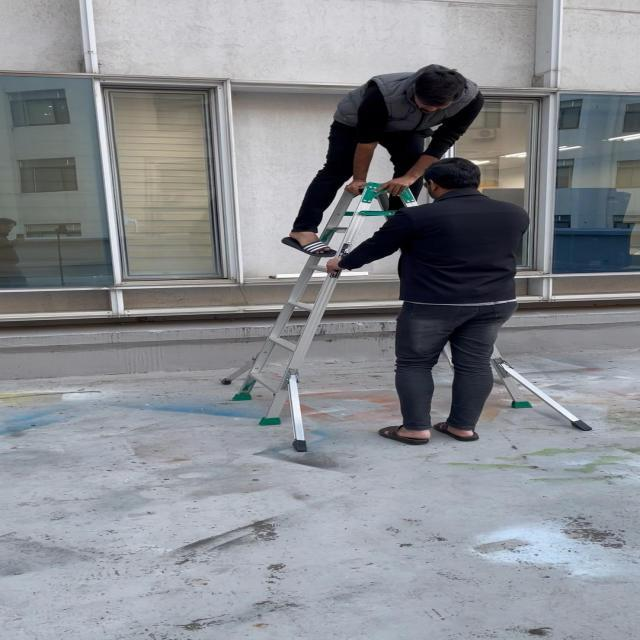boots: (216, 179, 598, 457)
vest: (322, 157, 534, 456), (275, 61, 493, 259)
